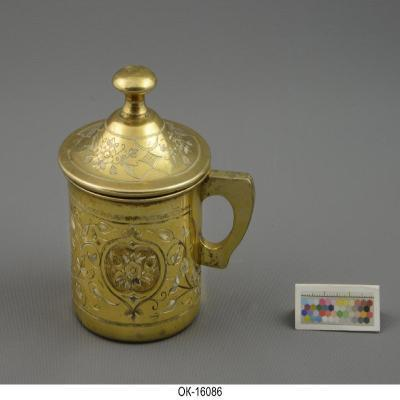dpi: (57, 65, 254, 345)
